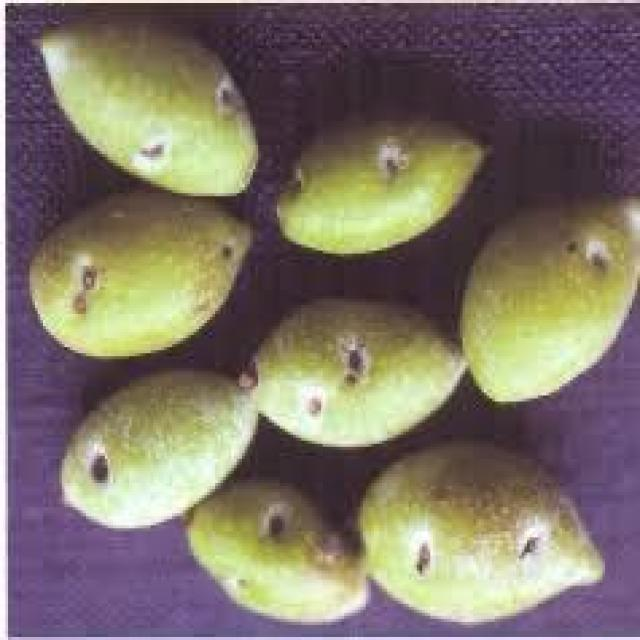Olive Fruit Fly: (358, 444, 602, 619), (35, 21, 255, 193), (30, 190, 250, 356), (460, 196, 637, 402), (239, 299, 465, 447), (65, 371, 255, 525), (277, 115, 487, 254), (188, 480, 366, 619)
